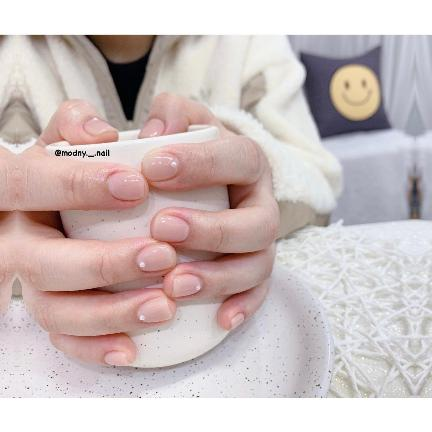Nail: (105, 171, 144, 201), (151, 214, 189, 242), (135, 244, 173, 272), (141, 153, 178, 181), (137, 296, 172, 323), (172, 273, 201, 297), (82, 119, 115, 136), (138, 118, 164, 138), (103, 350, 129, 366), (230, 312, 244, 329)
